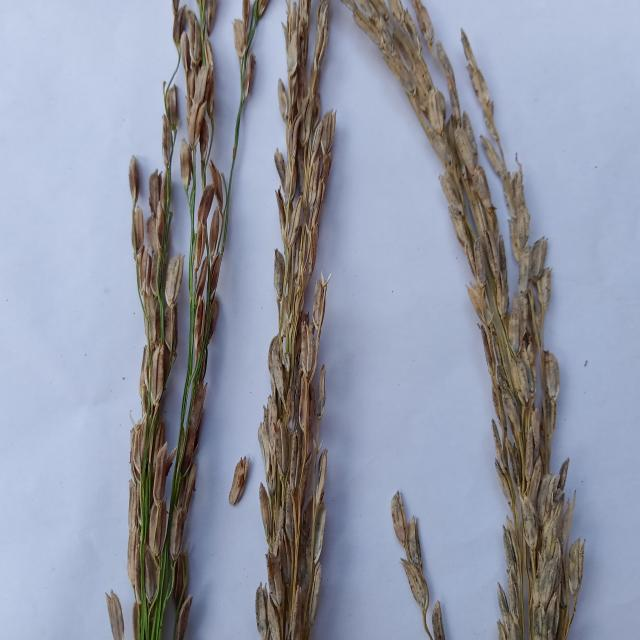Neck_Blast: (328, 0, 588, 640), (128, 0, 263, 557), (260, 0, 344, 639)
